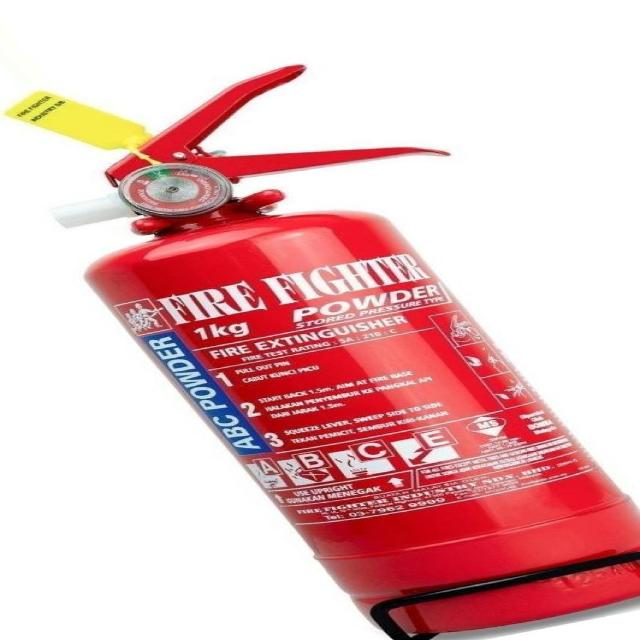fire_extinguisher: (1, 58, 639, 640)
